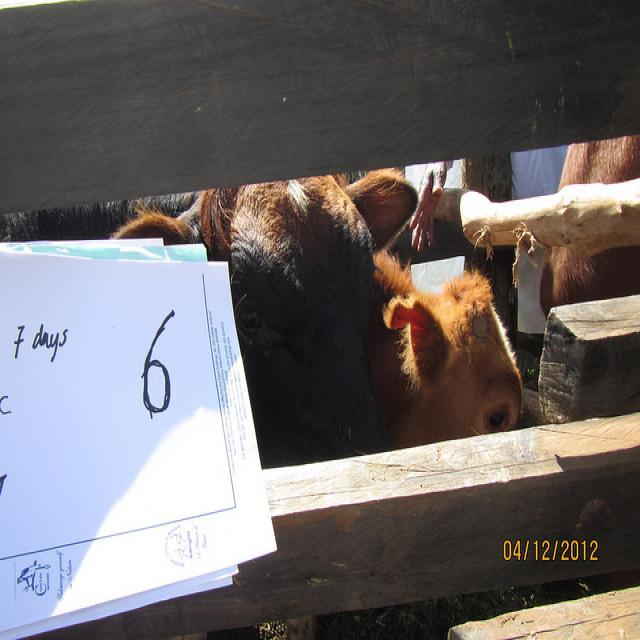cow: (108, 173, 417, 460), (365, 244, 519, 445), (539, 131, 639, 313)
